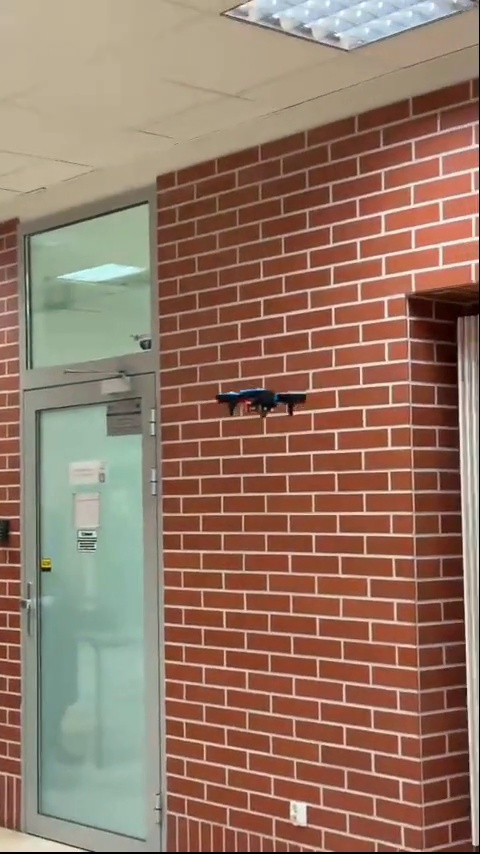drone: (219, 384, 308, 417)
